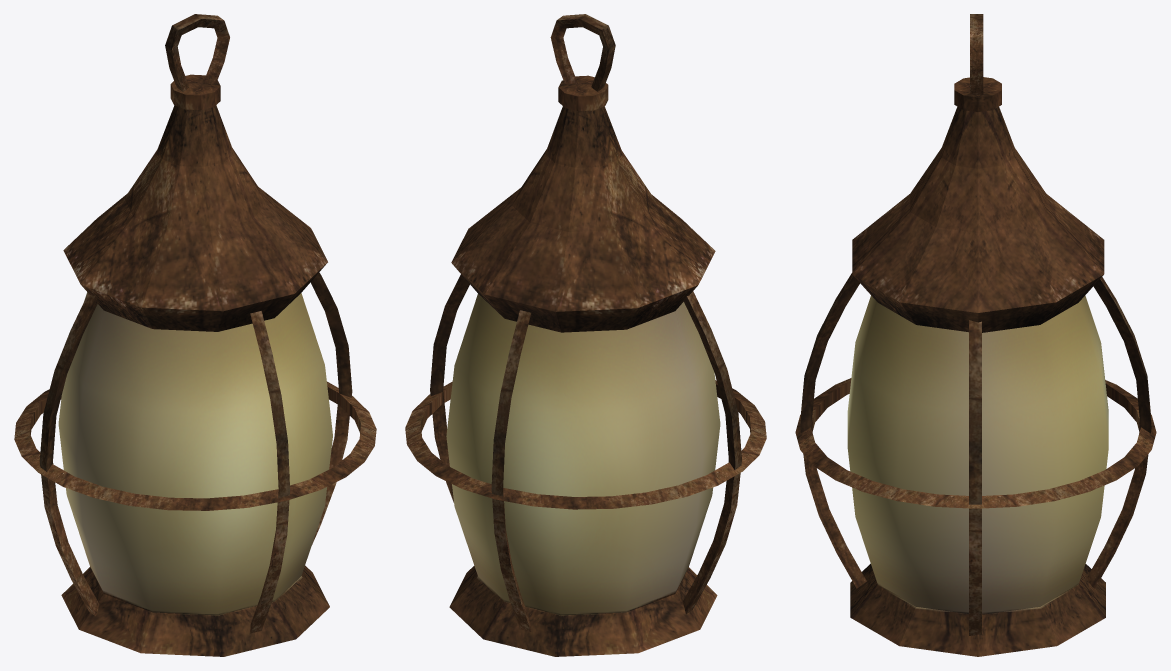
File: light-portable.FBX
3 renders of one model, left to right at view 1: azimuth 30°, elevation 25°; view 2: azimuth 150°, elevation 25°; view 3: azimuth 270°, elevation 25°, orthographic.
Visible parts, largest first — view 1: light-portable; view 2: light-portable; view 3: light-portable.
Part boxes in pixels (<box>): light-portable: <box>14,14,376,656</box>; light-portable: <box>405,14,766,656</box>; light-portable: <box>795,14,1156,656</box>.
Bounding box in the file's own units: 92.71 × 165 × 92.71.
